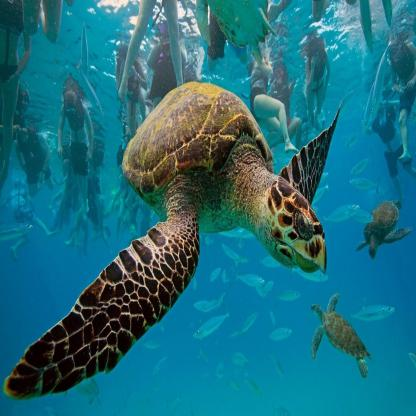turtle: (261, 168, 330, 288)
